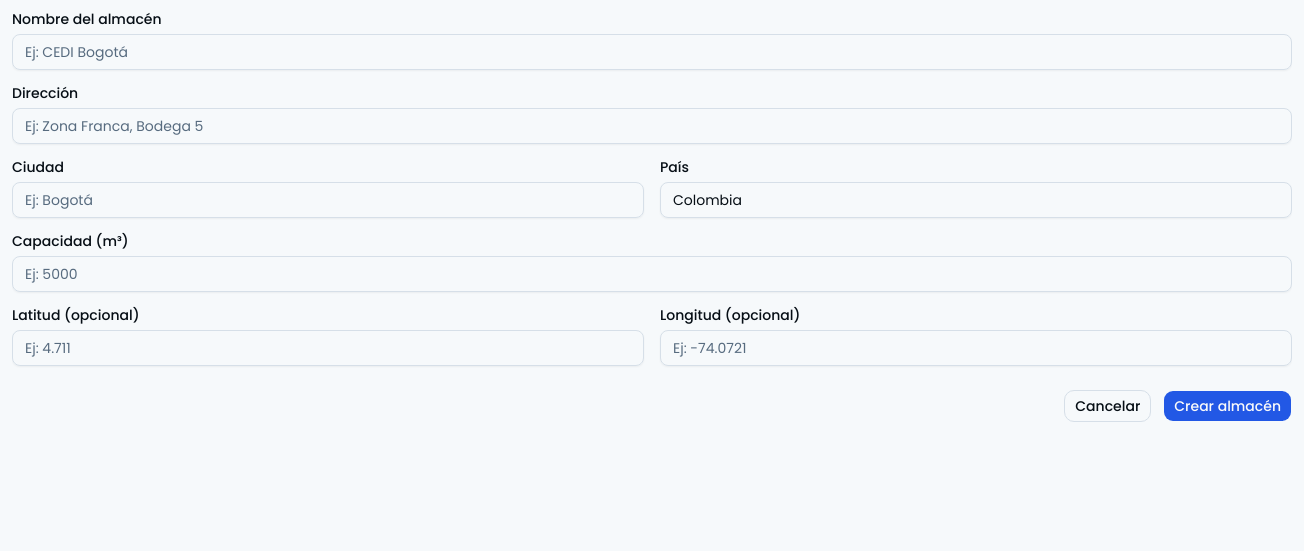
it: WarehouseForm — validación › muestra errores para campos requeridos al enviar vacío
Note: Borrar el default "Colombia" del campo país
Clear the field labelled "País" at [976, 200], box [660,182,1292,218]
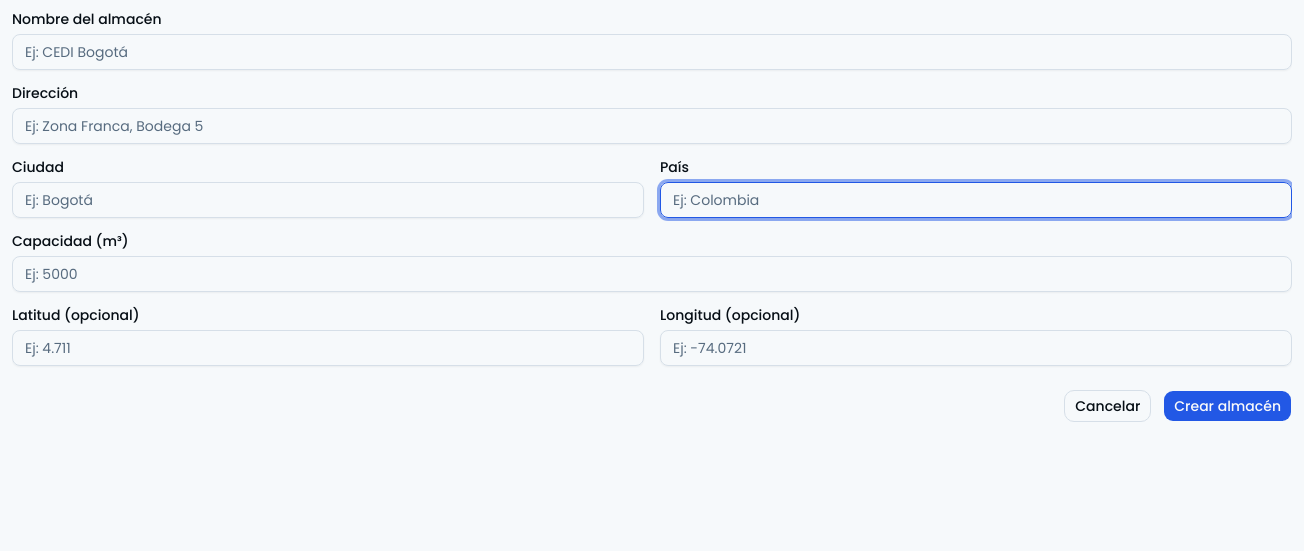
Click the button "Crear almacén".
click(1228, 406)  # box [1163,390,1292,422]
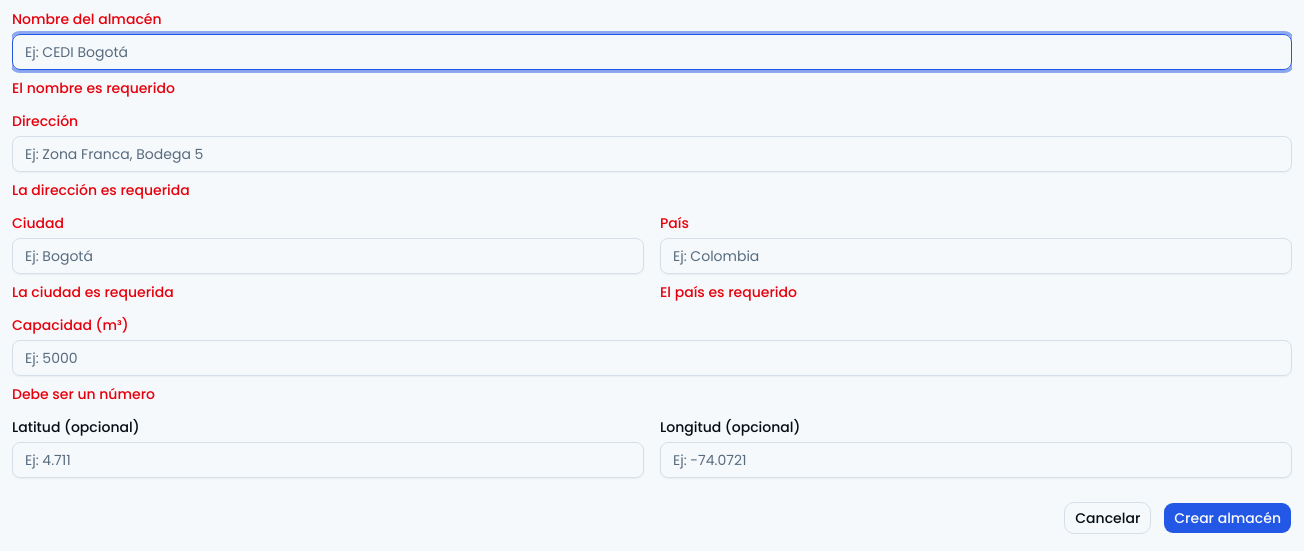
Expected: the text "El nombre es requerido" is shown, [12,78,175,98]
Expected: the text "La dirección es requerida" is shown, [12,180,190,200]
Expected: the text "La ciudad es requerida" is shown, [12,282,174,302]
